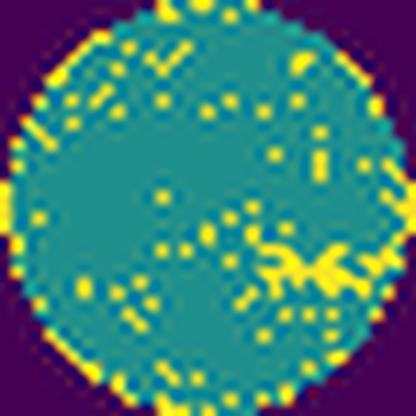Loc: (250, 234, 369, 299)
